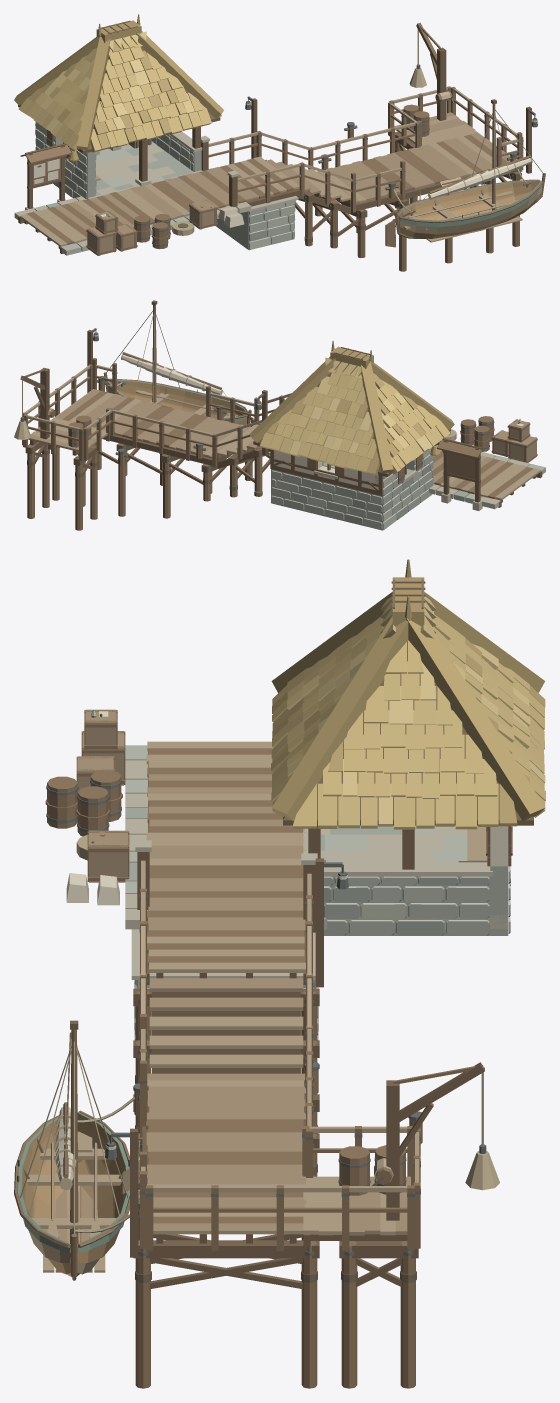
File: haven.glb
The picture shows the model from 3 angles, top to bottom: view 1: azimuth 30°, elevation 25°; view 2: azimuth 150°, elevation 25°; view 3: azimuth 270°, elevation 25°; orthographic projection. The views are drawn at different scales.
Visible parts, largest first — view 1: Haven_RoofThatch, Haven_DeckPier, Haven_PierRail, Haven_DeckLanding, Haven_ServiceBoat_Hull, Haven_PierFrame, Haven_RoofRidge, Haven_Props, Haven_PierStone, Haven_FloorShelter, Haven_Mooring, Haven_ServiceNotice_Board (+6 smaller); view 2: Haven_RoofThatch, Haven_PierFrame, Haven_DeckLanding, Haven_PierRail, Haven_ShellNorth, Haven_RoofRidge, Haven_Props, Haven_ShellWest, Haven_DeckPier, Haven_Mooring, Haven_ServiceBoat_Hull, Haven_ServiceNotice_Board (+5 smaller); view 3: Haven_RoofThatch, Haven_DeckPier, Haven_DeckLanding, Haven_PierFrame, Haven_RoofRidge, Haven_PierRail, Haven_Props, Haven_ShellEast, Haven_StairFlight, Haven_Mooring, Haven_ServiceBoat_Hull, Haven_FloorShelter (+6 smaller).
Boxes of the visible parts, x1=… form: Haven_RoofThatch: x1=18, y1=37, x2=221, y2=152; Haven_DeckPier: x1=20, y1=156, x2=299, y2=246; Haven_PierRail: x1=200, y1=86, x2=523, y2=212; Haven_DeckLanding: x1=317, y1=112, x2=510, y2=203; Haven_ServiceBoat_Hull: x1=394, y1=173, x2=545, y2=238; Haven_PierFrame: x1=18, y1=131, x2=521, y2=271; Haven_RoofRidge: x1=14, y1=14, x2=223, y2=150; Haven_Props: x1=86, y1=104, x2=429, y2=255; Haven_PierStone: x1=14, y1=196, x2=298, y2=255; Haven_FloorShelter: x1=72, y1=141, x2=202, y2=199; Haven_Mooring: x1=245, y1=23, x2=537, y2=211; Haven_ServiceNotice_Board: x1=20, y1=143, x2=78, y2=209; Haven_RoofThatch: x1=260, y1=363, x2=450, y2=475; Haven_PierFrame: x1=25, y1=434, x2=542, y2=530; Haven_DeckLanding: x1=28, y1=389, x2=250, y2=458; Haven_PierRail: x1=22, y1=358, x2=291, y2=467; Haven_ShellNorth: x1=271, y1=450, x2=384, y2=530; Haven_RoofRidge: x1=249, y1=340, x2=454, y2=473; Haven_Props: x1=68, y1=415, x2=537, y2=462; Haven_ShellWest: x1=375, y1=447, x2=433, y2=529; Haven_DeckPier: x1=433, y1=445, x2=540, y2=500; Haven_Mooring: x1=14, y1=328, x2=267, y2=465; Haven_ServiceBoat_Hull: x1=103, y1=372, x2=251, y2=425; Haven_ServiceNotice_Board: x1=430, y1=438, x2=486, y2=510; Haven_RoofThatch: x1=271, y1=611, x2=545, y2=829; Haven_DeckPier: x1=146, y1=741, x2=305, y2=972; Haven_DeckLanding: x1=146, y1=1073, x2=410, y2=1235; Haven_PierFrame: x1=133, y1=752, x2=418, y2=1388; Haven_RoofRidge: x1=271, y1=559, x2=544, y2=821; Haven_PierRail: x1=135, y1=840, x2=420, y2=1250; Haven_Props: x1=45, y1=709, x2=406, y2=1195; Haven_ShellEast: x1=324, y1=862, x2=492, y2=935; Haven_StairFlight: x1=149, y1=978, x2=303, y2=1067; Haven_Mooring: x1=75, y1=858, x2=499, y2=1257; Haven_ServiceBoat_Hull: x1=14, y1=1110, x2=129, y2=1280; Haven_FloorShelter: x1=303, y1=825, x2=508, y2=928.
Size of the model in its own units: 20.4 by 10.69 by 10.38.
